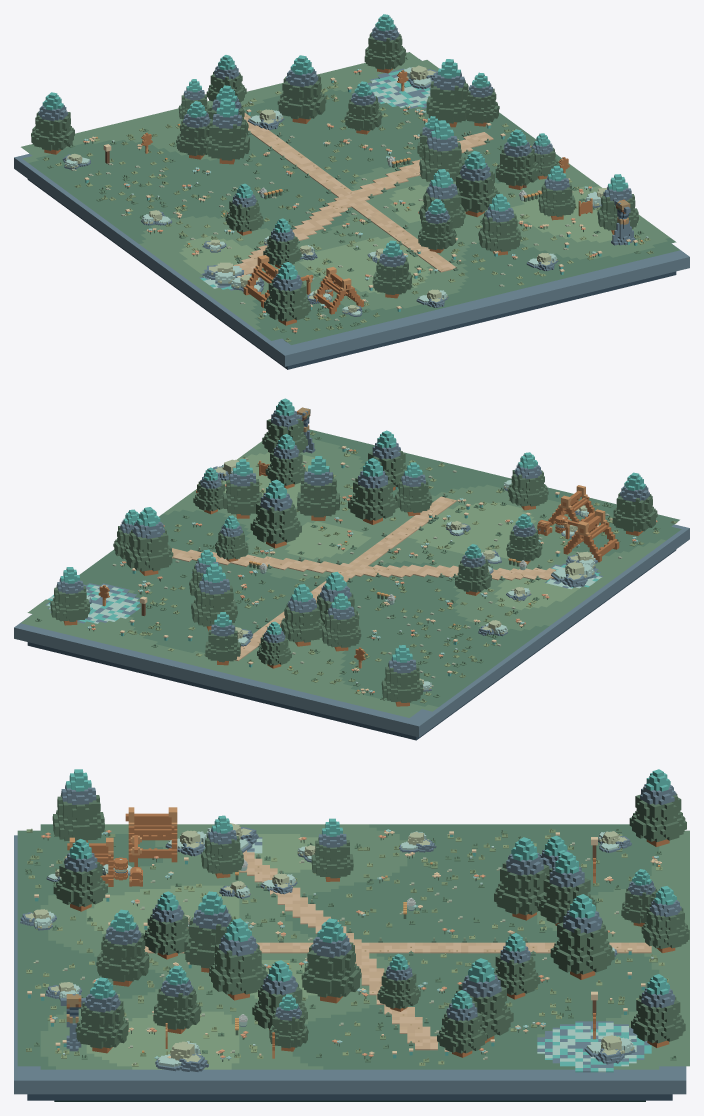
Rendered from survival_polluted.glb.
The picture shows the model from 3 angles, top to bottom: view 1: azimuth 30°, elevation 25°; view 2: azimuth 150°, elevation 25°; view 3: azimuth 270°, elevation 25°; orthographic projection. The views are drawn at different scales.
Parts seen in each view (by area): view 1: survival_ground, survival_occluders; view 2: survival_ground, survival_occluders; view 3: survival_ground, survival_occluders.
Part boxes in pixels (bbox=[...]): survival_ground: bbox=[14, 52, 689, 369]; survival_occluders: bbox=[31, 14, 638, 325]; survival_ground: bbox=[14, 429, 689, 740]; survival_occluders: bbox=[50, 398, 657, 706]; survival_ground: bbox=[14, 824, 689, 1101]; survival_occluders: bbox=[52, 769, 689, 1071].
Bounding box in the file's own units: 38.46 × 8.97 × 44.25.
